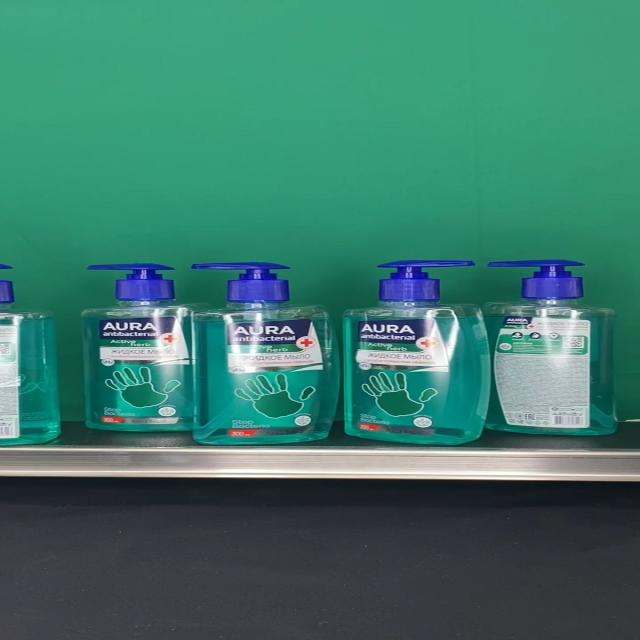Bottle: (191, 261, 341, 446), (342, 260, 492, 444), (482, 260, 618, 436), (80, 262, 214, 430)
Cap: (377, 260, 476, 300), (489, 260, 587, 300), (193, 261, 291, 299), (86, 263, 174, 299)
